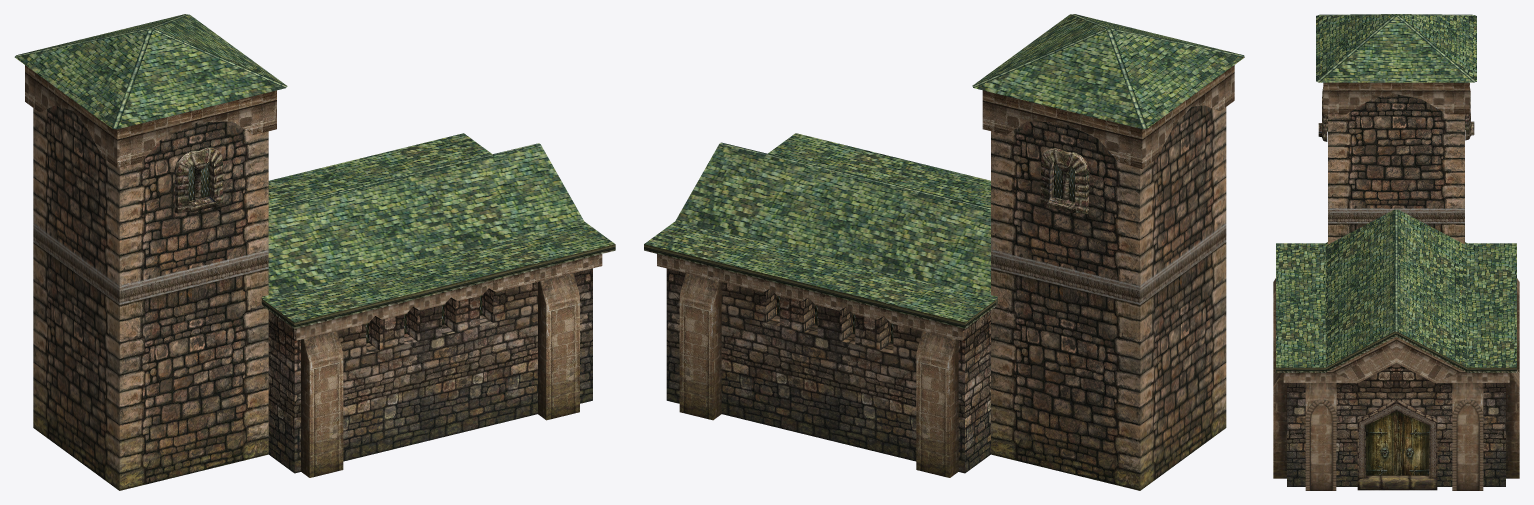
Rendered from t_house4.glb.
3 renders of one model, left to right at view 1: azimuth 30°, elevation 25°; view 2: azimuth 150°, elevation 25°; view 3: azimuth 270°, elevation 25°, orthographic. The views are drawn at different scales.
Parts seen in each view (by area): view 1: t_house4-col; view 2: t_house4-col; view 3: t_house4-col.
Part boxes in pixels (x1,y1,x2,y2): t_house4-col: (14,14,615,490); t_house4-col: (644,14,1244,490); t_house4-col: (1273,14,1519,490).
Bounding box in the file's own units: 19.54 × 16.15 × 11.01.
13 materials, 13 textured.
